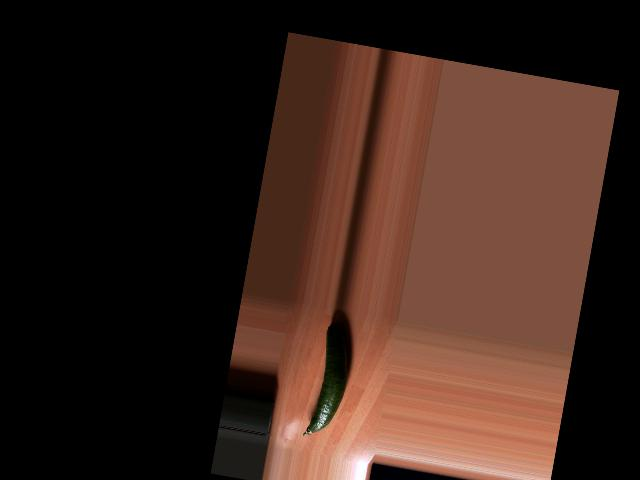cucumber: (302, 319, 357, 442)
